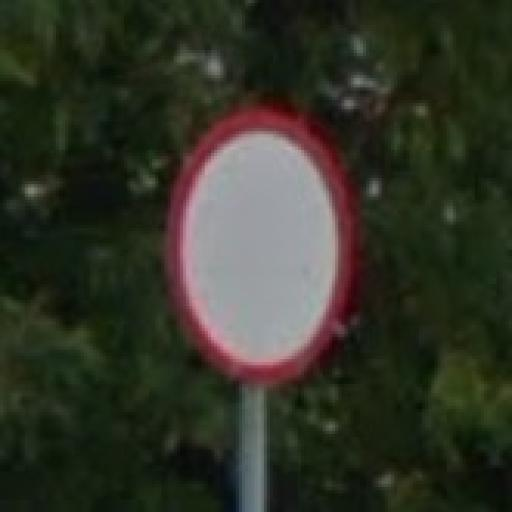traffic_sign: (165, 110, 355, 388)
